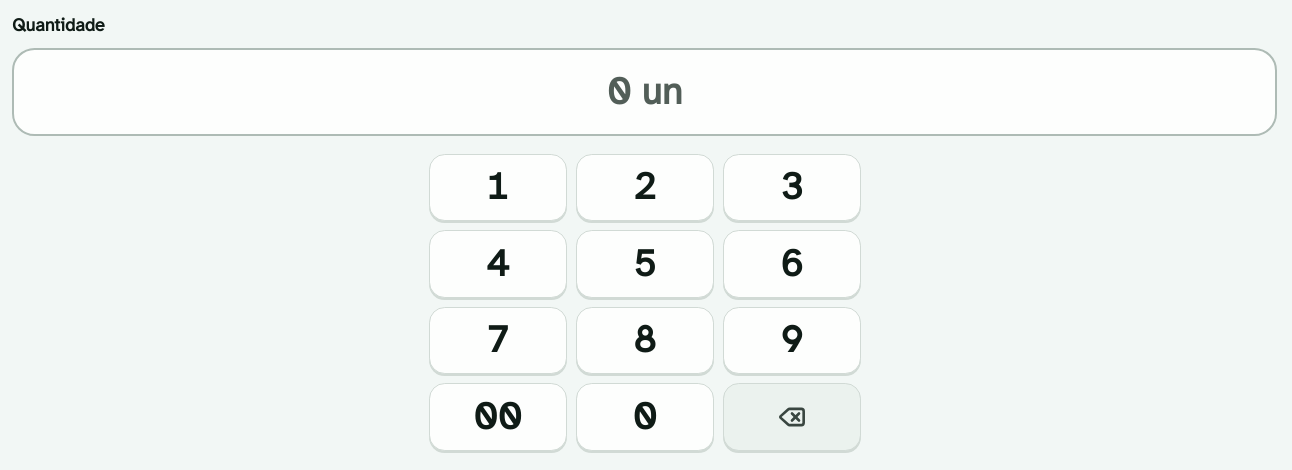
it: QuantityInput › em unidades inteiras, cada dígito é uma unidade
Click the button "1" at (498, 187), box top-left (428, 154), bottom-right (566, 221)
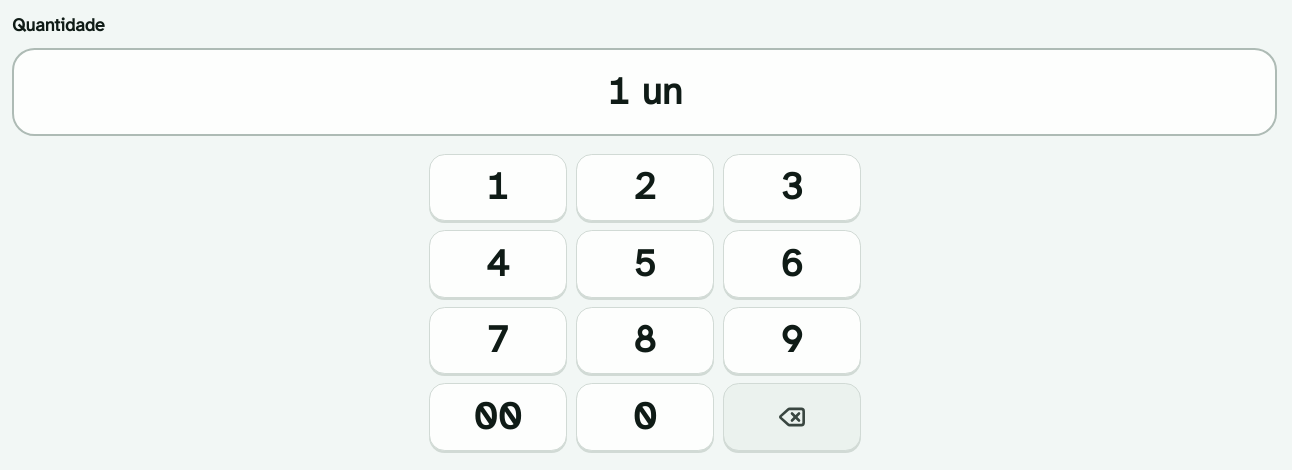
Click the button "2" at (644, 187), box top-left (576, 154), bottom-right (714, 221)
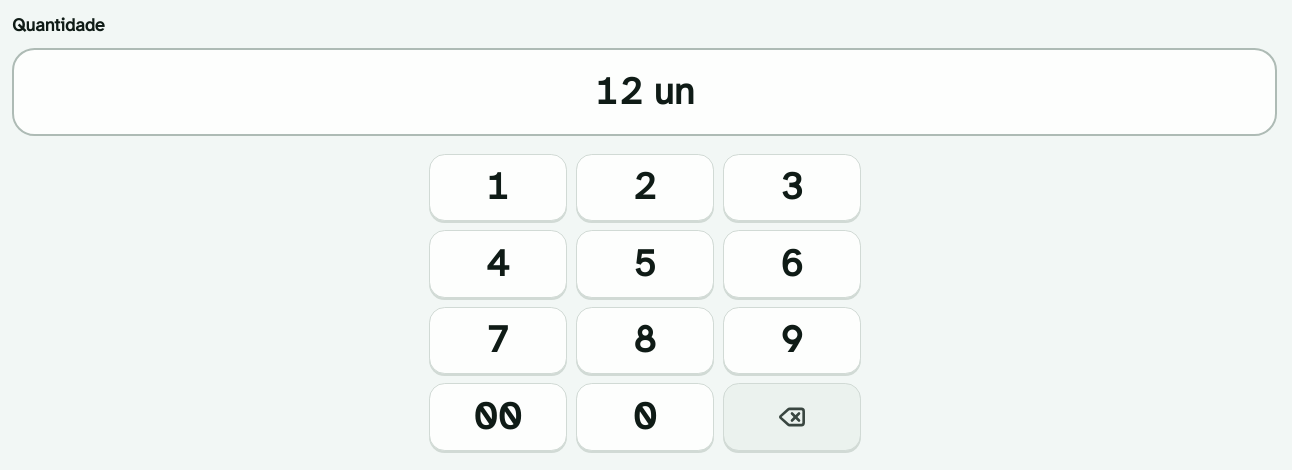
Expected: the field labelled "Quantidade" holds "12 un", top-left (12, 48), bottom-right (1277, 136)
Click the button named "Apagar" at (792, 417), box top-left (722, 383), bottom-right (860, 451)
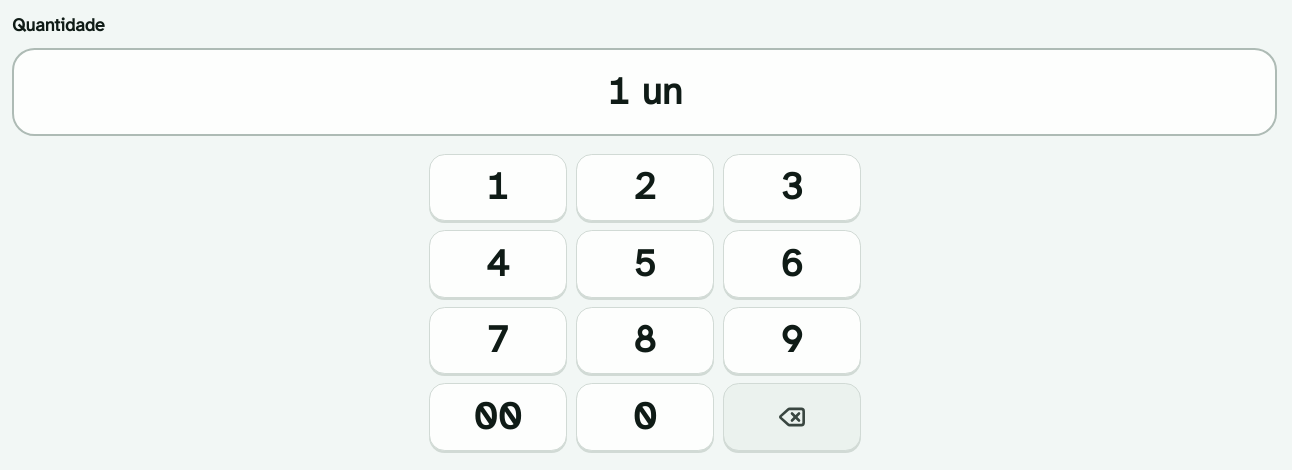
Expected: the field labelled "Quantidade" holds "1 un", top-left (12, 48), bottom-right (1277, 136)
